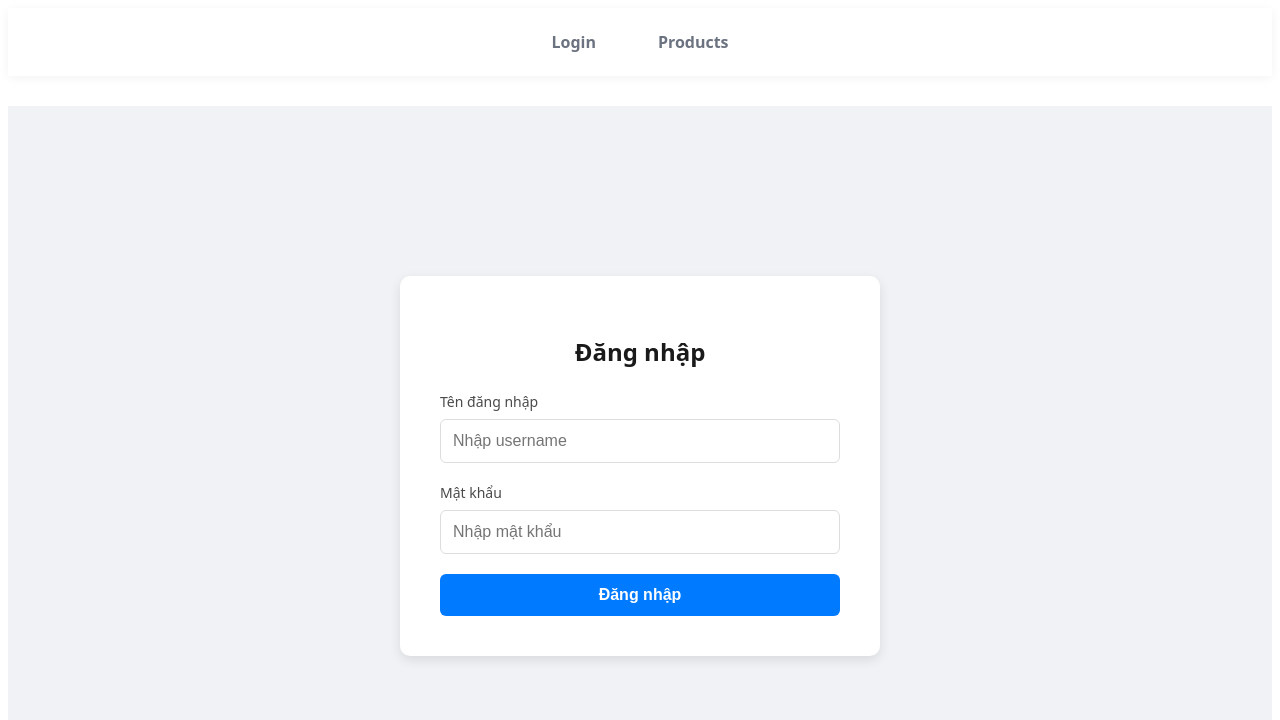
Test case: Login E2E Tests (5.1.2) › TC5: Hiển thị lỗi validation khi Password không có chữ hoặc số (Negative Test)
The image size is (1280, 720).
Type "testuser" into the field with test id "username-input". click: (640, 442)
box: [440, 420, 840, 464]
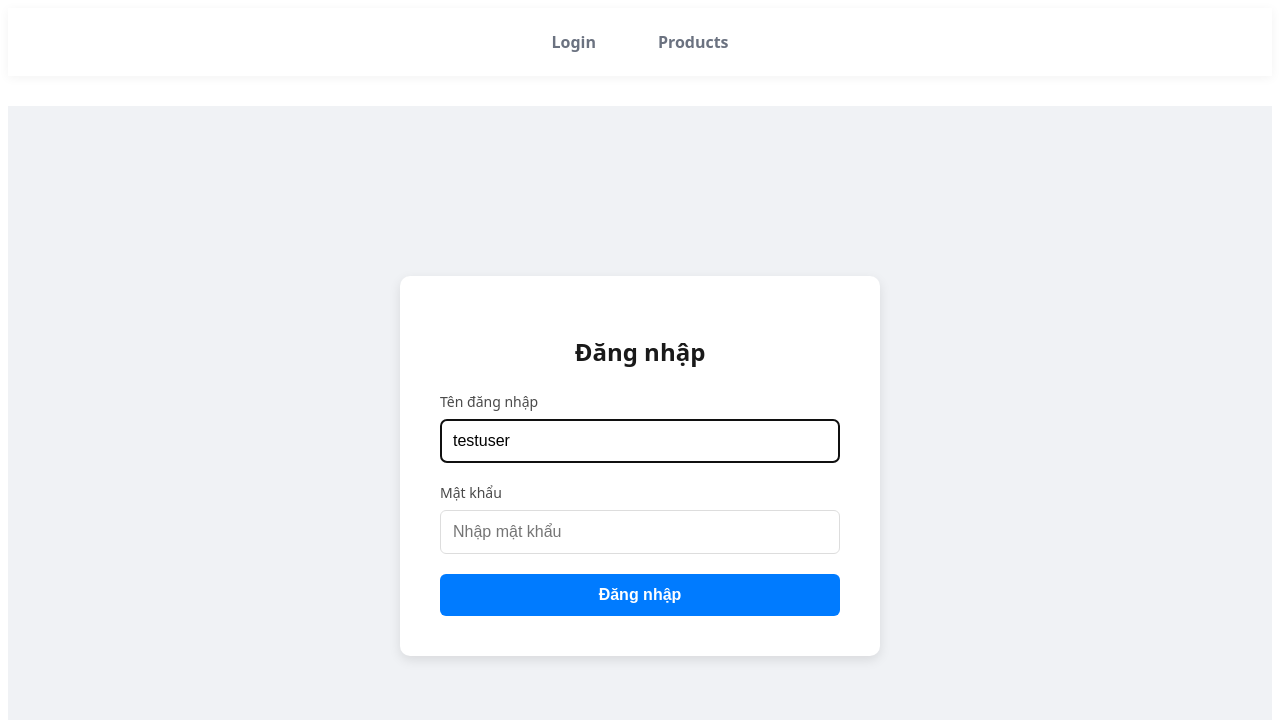
Type "abcdef" into the password field with test id "password-input". click: (640, 533)
box: [440, 511, 840, 555]
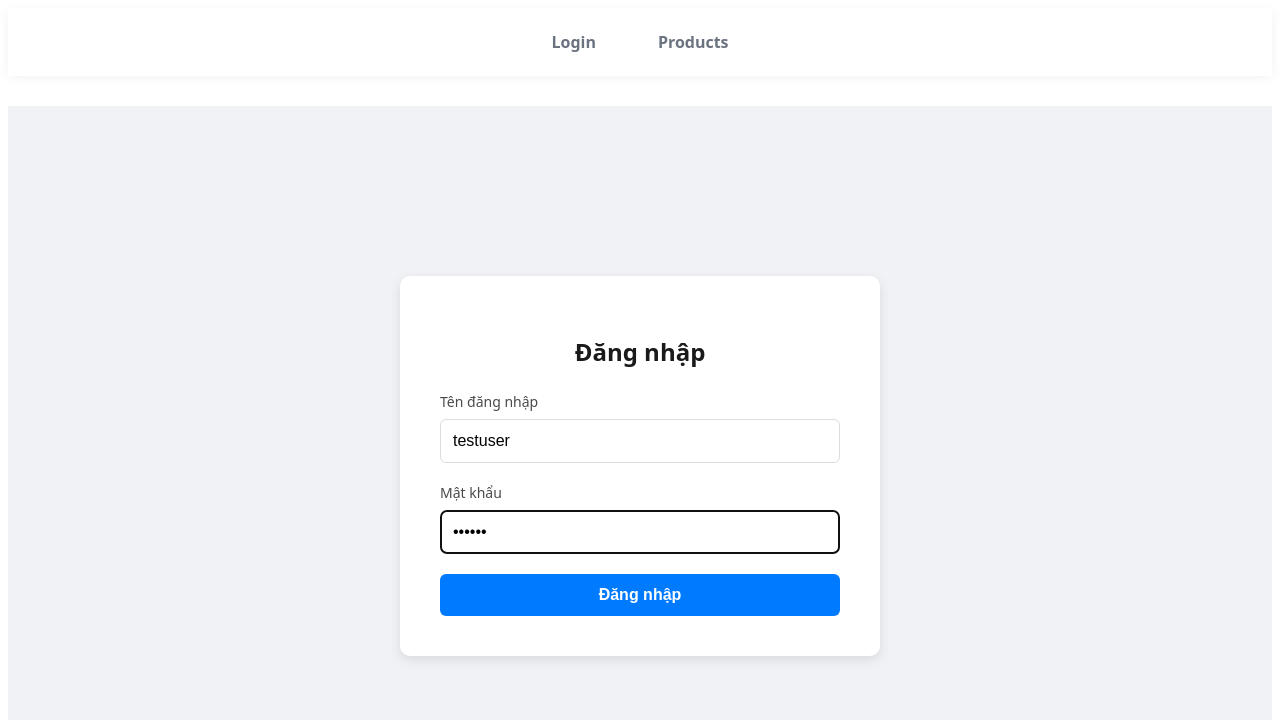
Click the button with test id "login-button". click: (640, 596)
box: [440, 575, 840, 617]
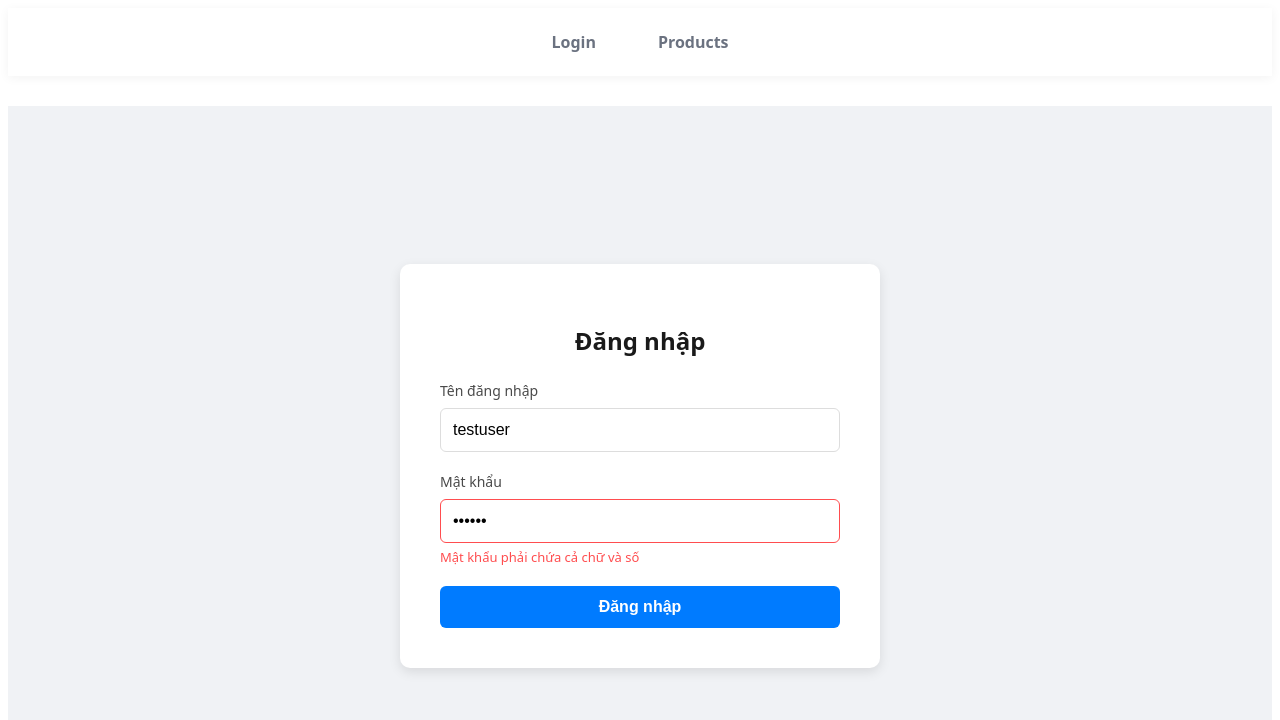
Result: the text with test id "password-error" reads "Mật khẩu phải chứa cả chữ và số" at [440, 548, 639, 566]
